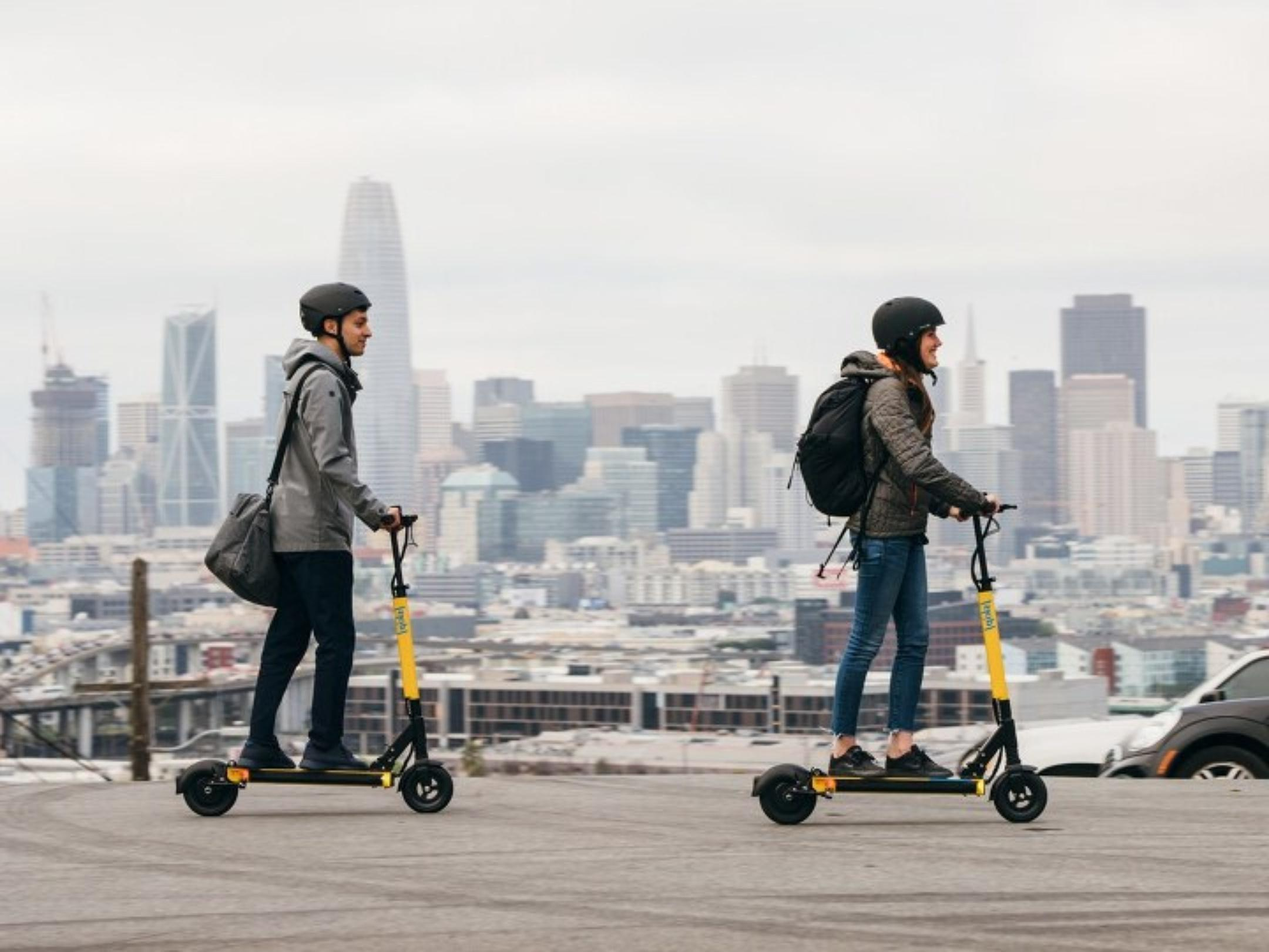helmet: (274, 281, 378, 368), (858, 292, 943, 384)
human: (791, 296, 981, 785), (245, 279, 396, 772)
kickboard: (749, 758, 1054, 829), (179, 758, 456, 813)
